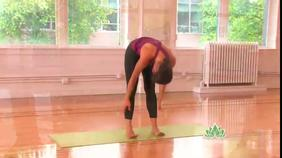sit: (125, 43, 163, 119)
